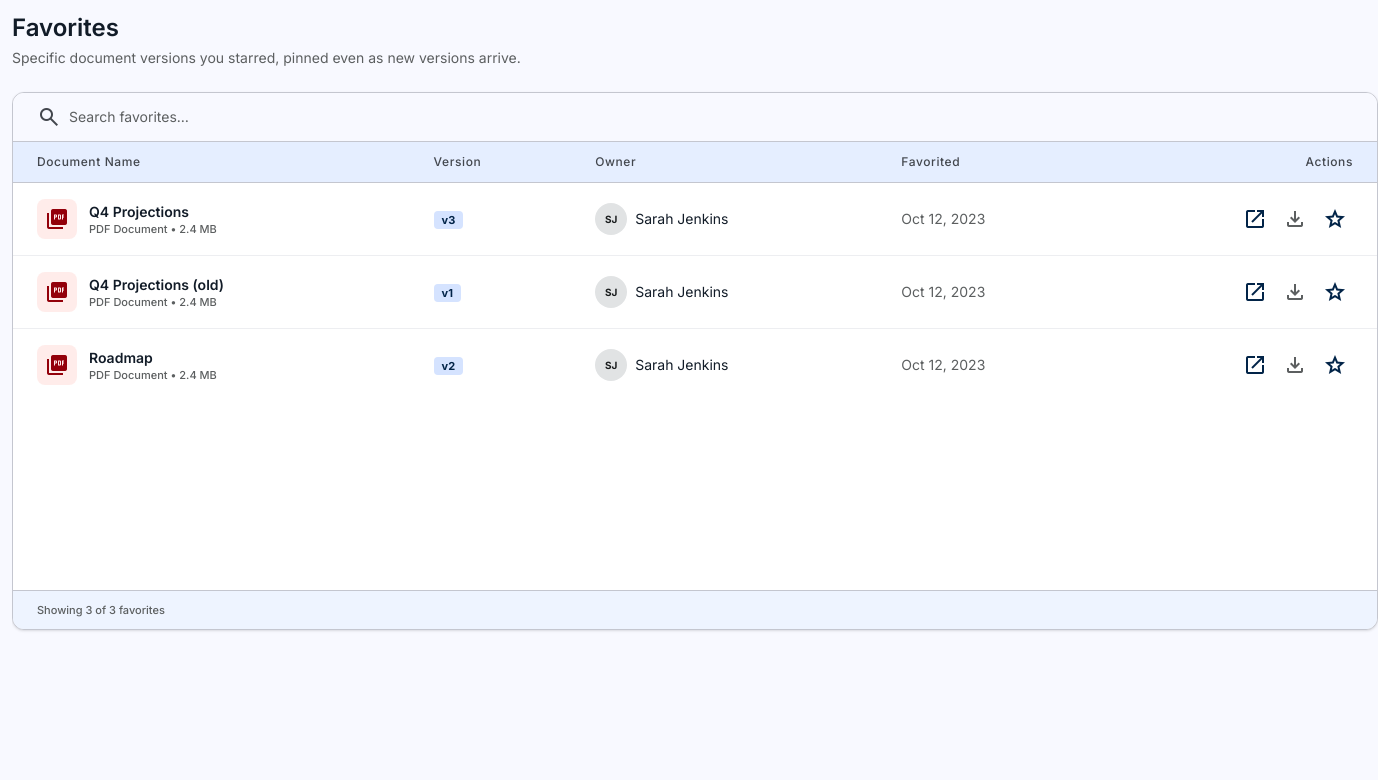
it: FavoritesPage › filters by the search box
In the field with placeholder "Search favorites…": coordinates (711, 117) [69,107,1353,127], type "road"
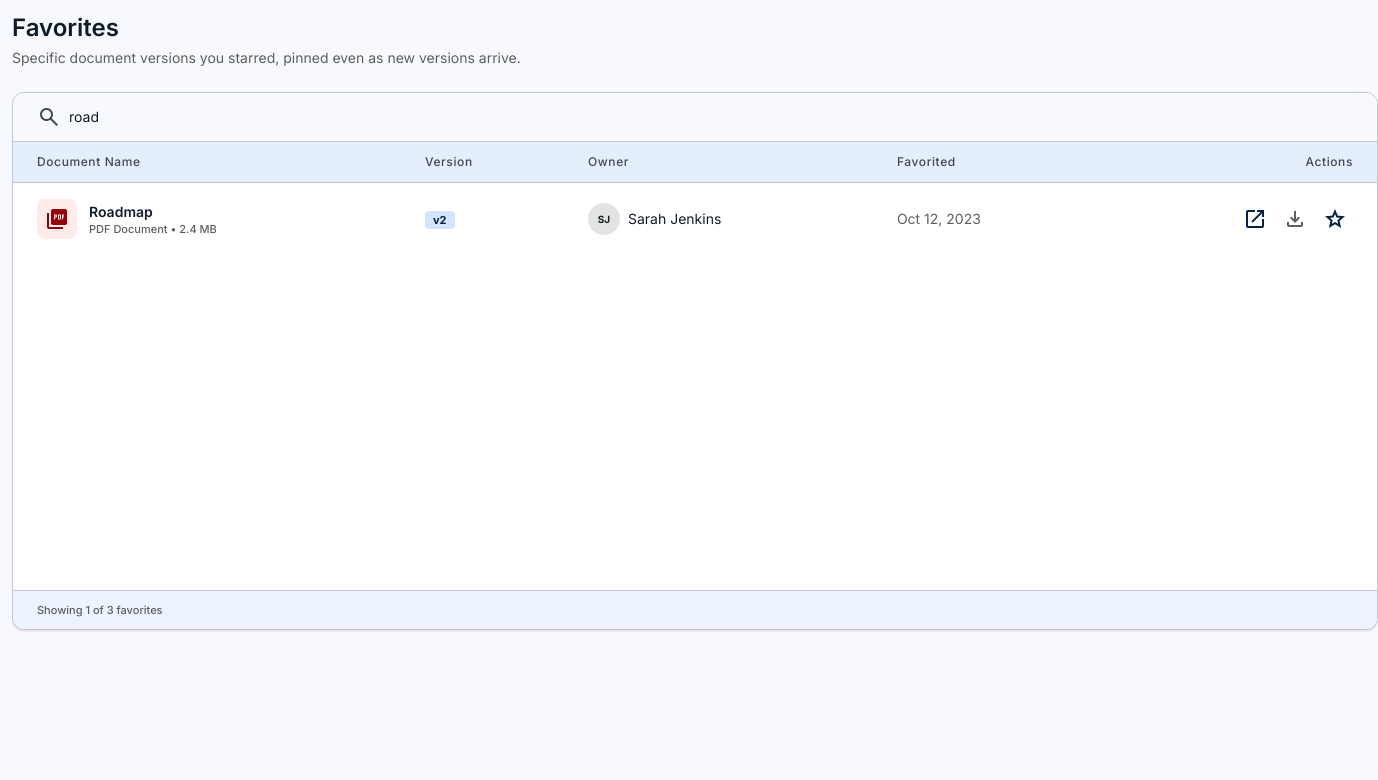
Expected: the link "Roadmap" is shown, [89,203,153,220]
Now the link "Q4 Projections" is gone
